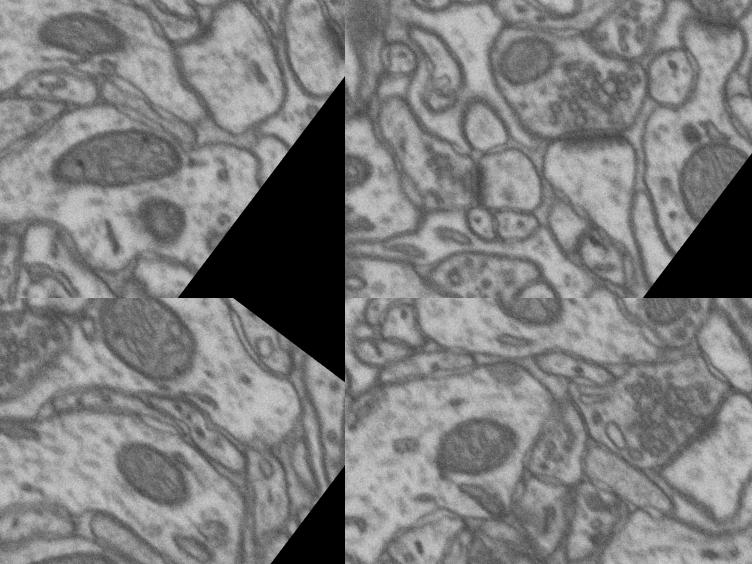mitochondria: (27, 74, 199, 248), (75, 298, 225, 408), (415, 387, 536, 509), (97, 421, 210, 527), (653, 114, 752, 228), (30, 0, 152, 89), (497, 0, 600, 102), (114, 172, 210, 268), (0, 501, 133, 564), (278, 382, 345, 499), (475, 298, 601, 357), (613, 298, 717, 345), (345, 139, 376, 231)
